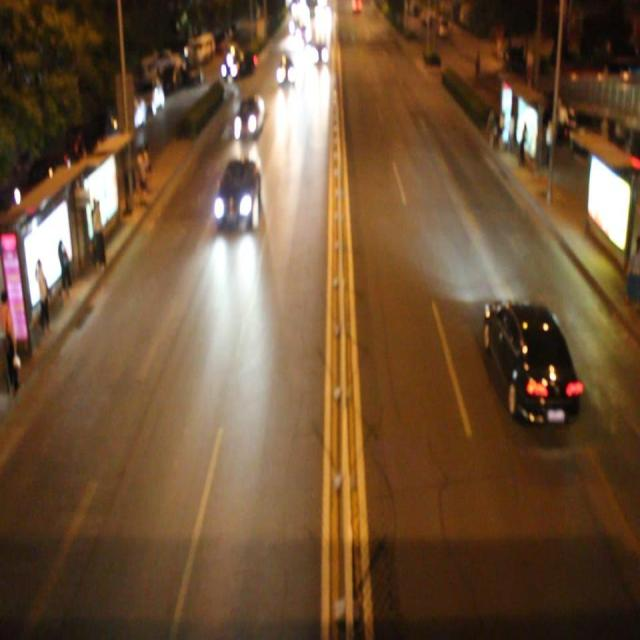car: (484, 291, 580, 425), (214, 151, 262, 231), (233, 92, 264, 140), (275, 51, 296, 86)
